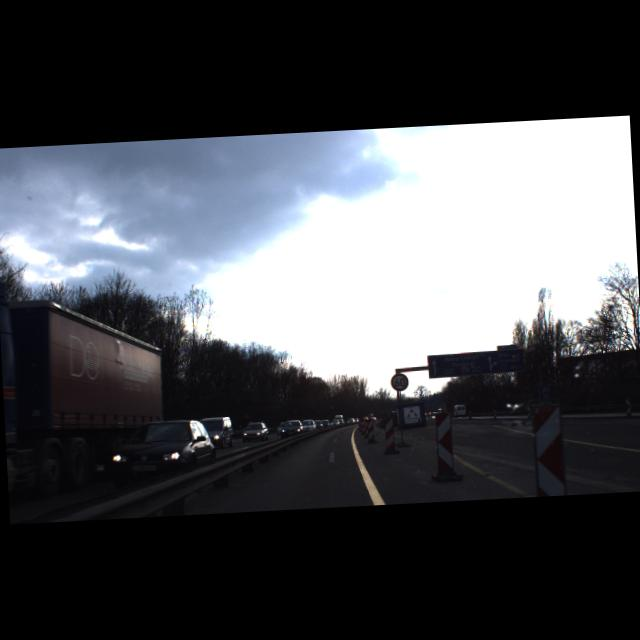prohibitory: (390, 372, 409, 392)
